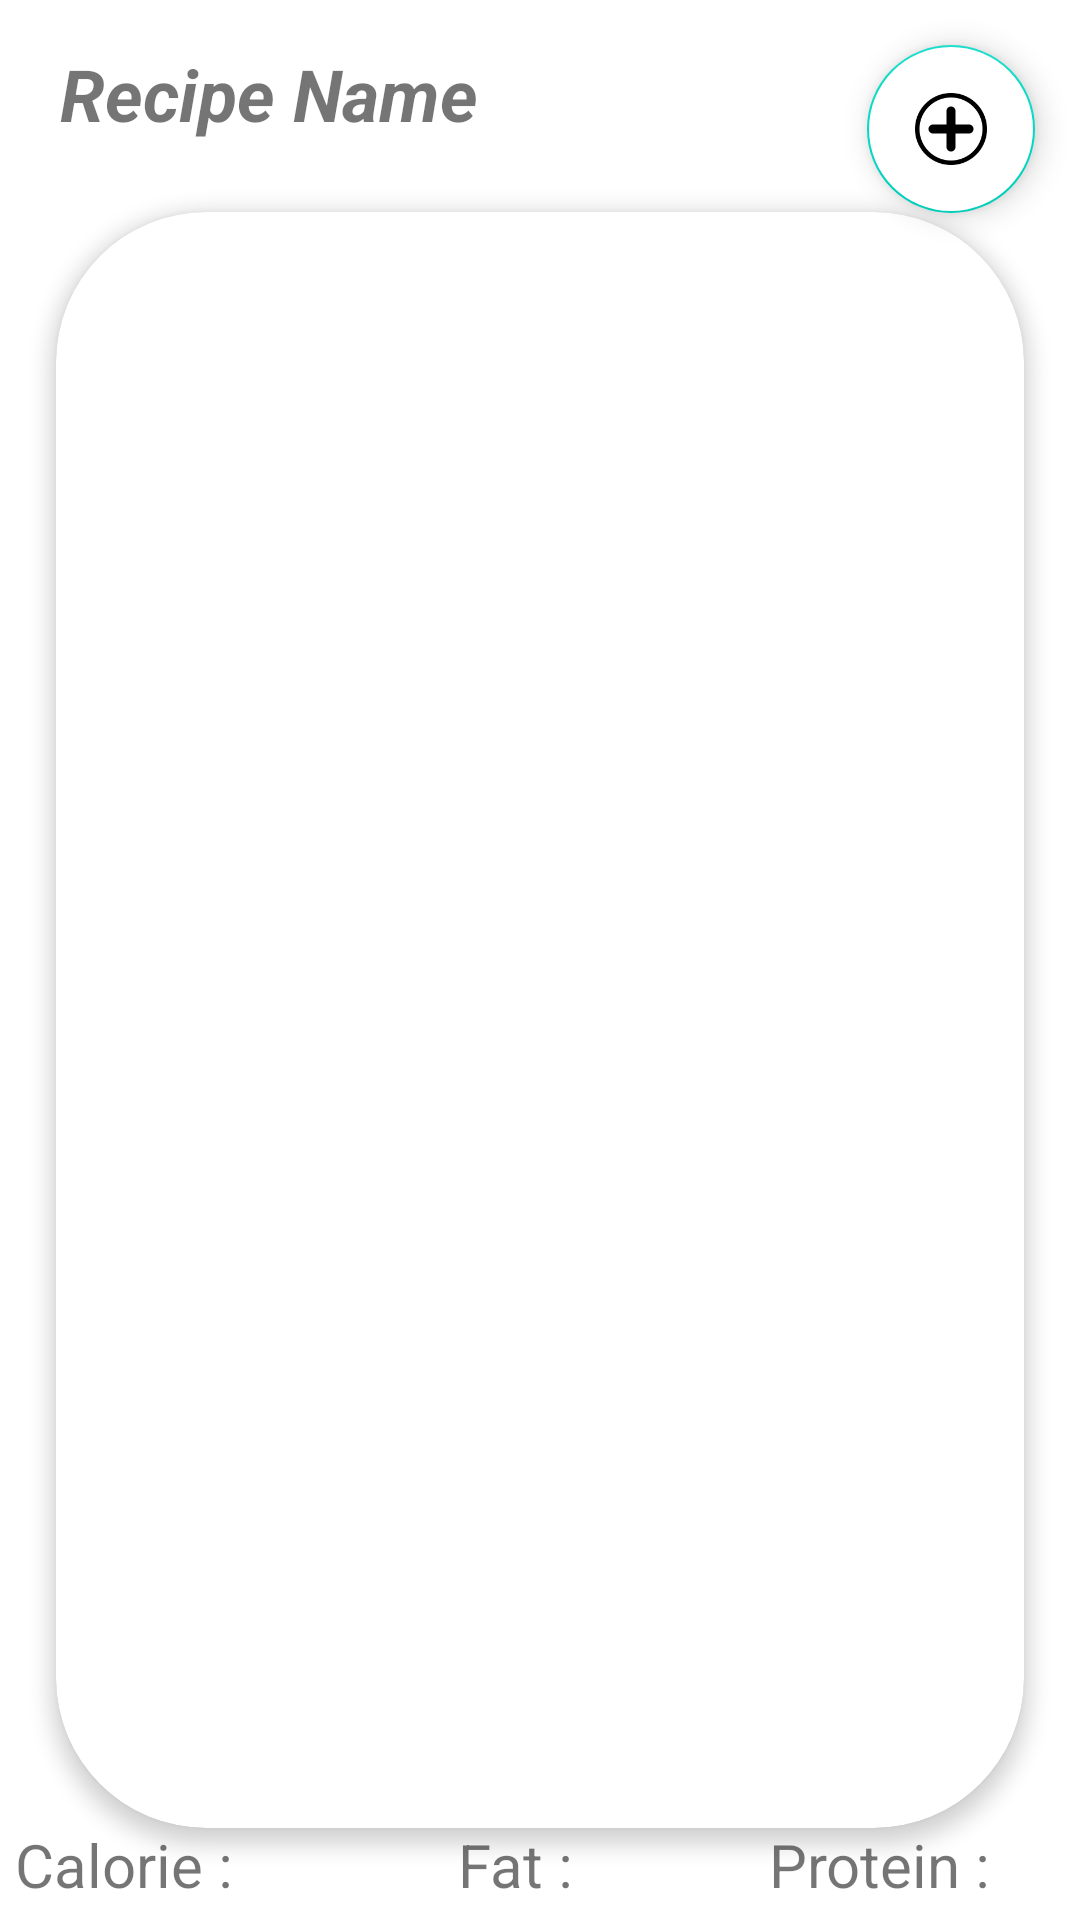

Icons on this 1080 × 1920 Android screen, each with its box as box=[x1, y1, x2, y2]:
fab: box=[867, 45, 1035, 213]
